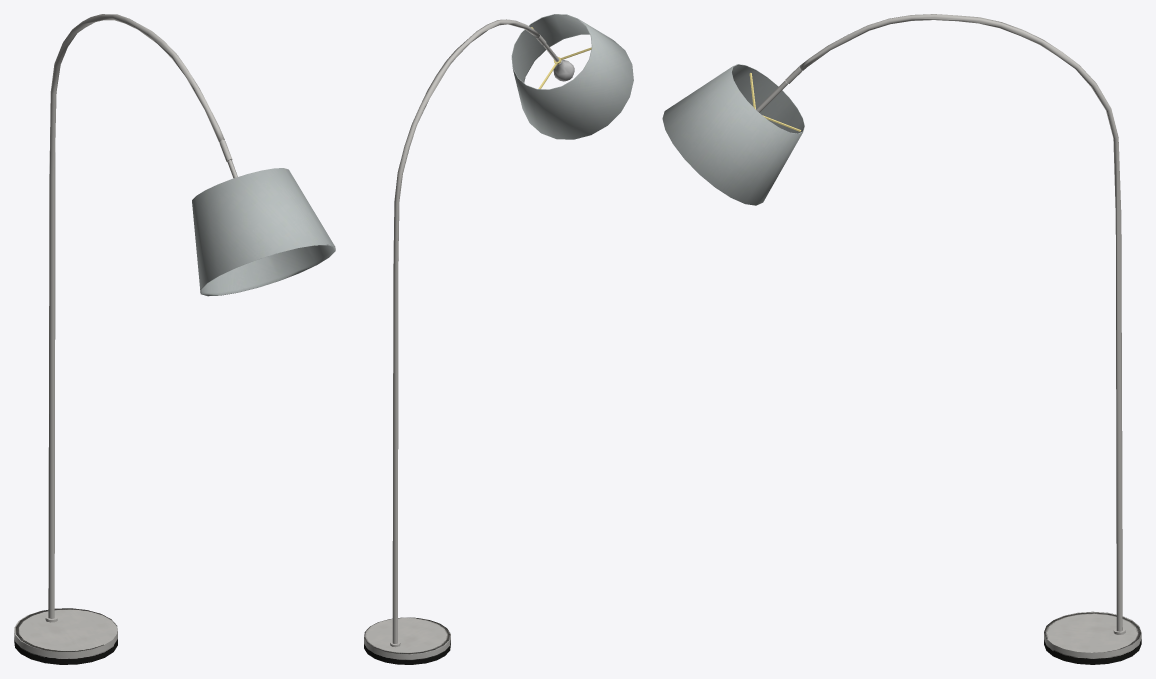
The model's file is abo-B0742FPL25.glb.
The picture shows the model from 3 angles, left to right: view 1: azimuth 30°, elevation 25°; view 2: azimuth 150°, elevation 25°; view 3: azimuth 270°, elevation 25°; orthographic projection. The views are drawn at different scales.
Visible parts, largest first — view 1: "$ACAGPHNAABCAAAAAICBAAAAAAAAACGPFIGHN"; view 2: "$ACAGPHNAABCAAAAAICBAAAAAAAAACGPFIGHN"; view 3: "$ACAGPHNAABCAAAAAICBAAAAAAAAACGPFIGHN".
Part boxes in pixels (<box>): "$ACAGPHNAABCAAAAAICBAAAAAAAAACGPFIGHN": <box>14,14,335,664</box>; "$ACAGPHNAABCAAAAAICBAAAAAAAAACGPFIGHN": <box>364,14,633,664</box>; "$ACAGPHNAABCAAAAAICBAAAAAAAAACGPFIGHN": <box>662,14,1141,664</box>.
Bounding box in the file's own units: 0.4052 × 2.1 × 1.45.
Materials: 1 (1 with a texture image).
